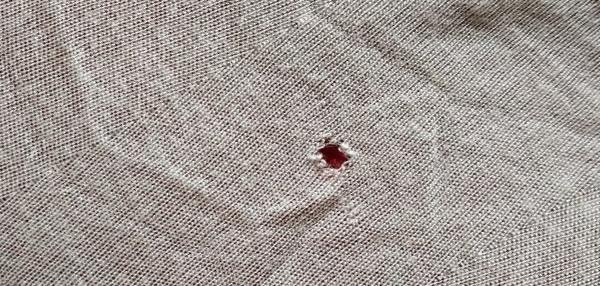hole: (304, 136, 359, 177)
